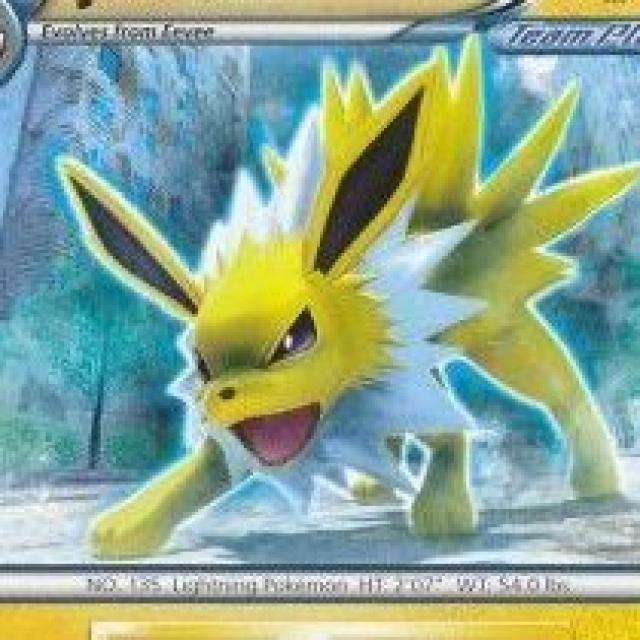Jolteon: (100, 122, 587, 536)
